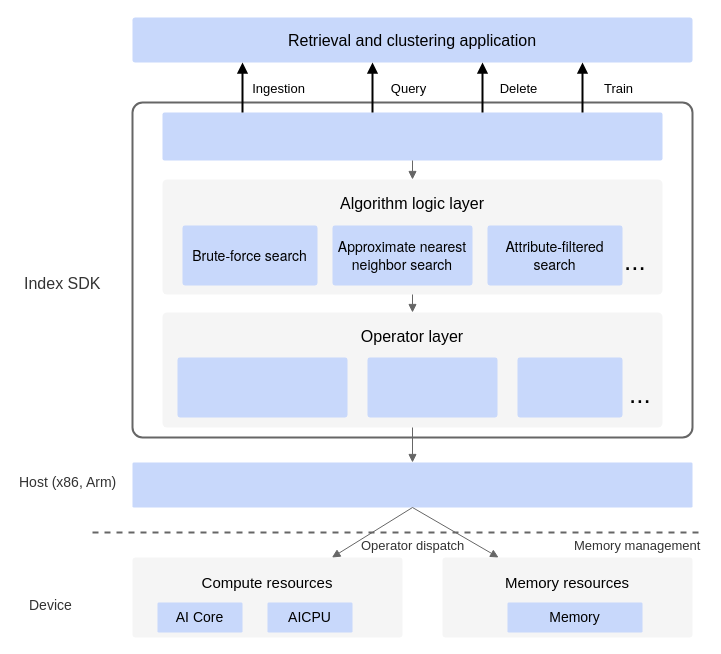
Some shapes in this 721 by 654 pixel diagram are drawn without their labels. Here are the shapes that lost their labels. From the top down, the centre of each, then its label:
At point 412,136: "Index SDK APIs (Faiss-compatible C++ APIs)".
At point 262,387: "Distance computation operators (L2, IP, Hamming, etc.)".
At point 432,387: "Top-K sorting operators".
At point 569,387: "Filtering mask operators".
At point 412,484: "ACL runtime library".
